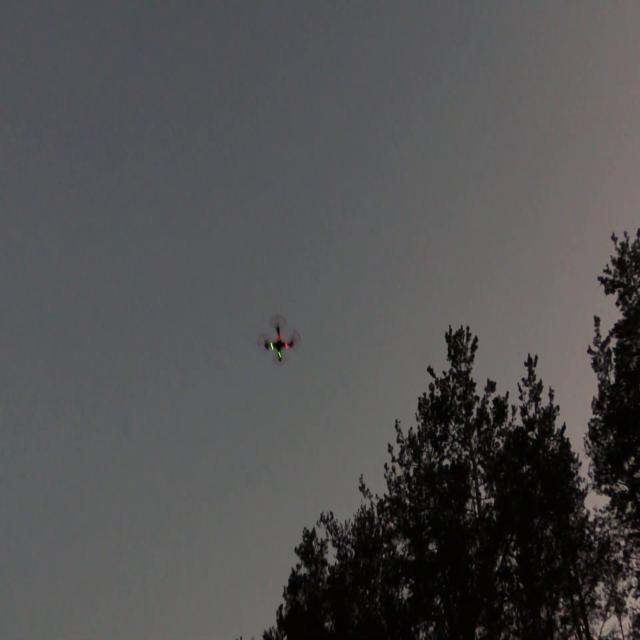Drons: (254, 312, 302, 368)
